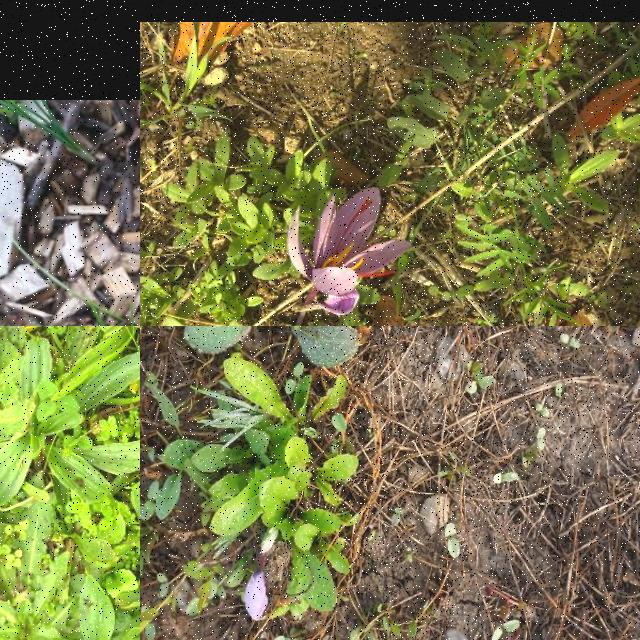flower: (286, 186, 414, 316), (244, 566, 268, 622)
